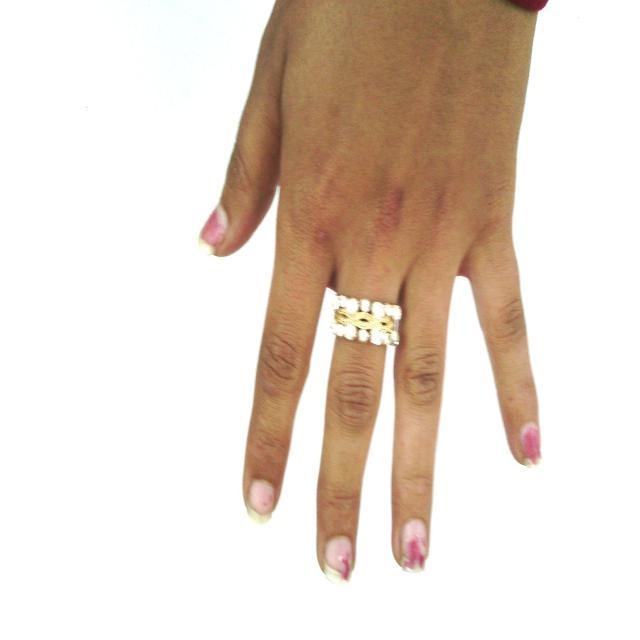Fingernail: (401, 519, 426, 572), (325, 536, 352, 583), (201, 206, 228, 249), (249, 481, 274, 523), (521, 424, 541, 465)
